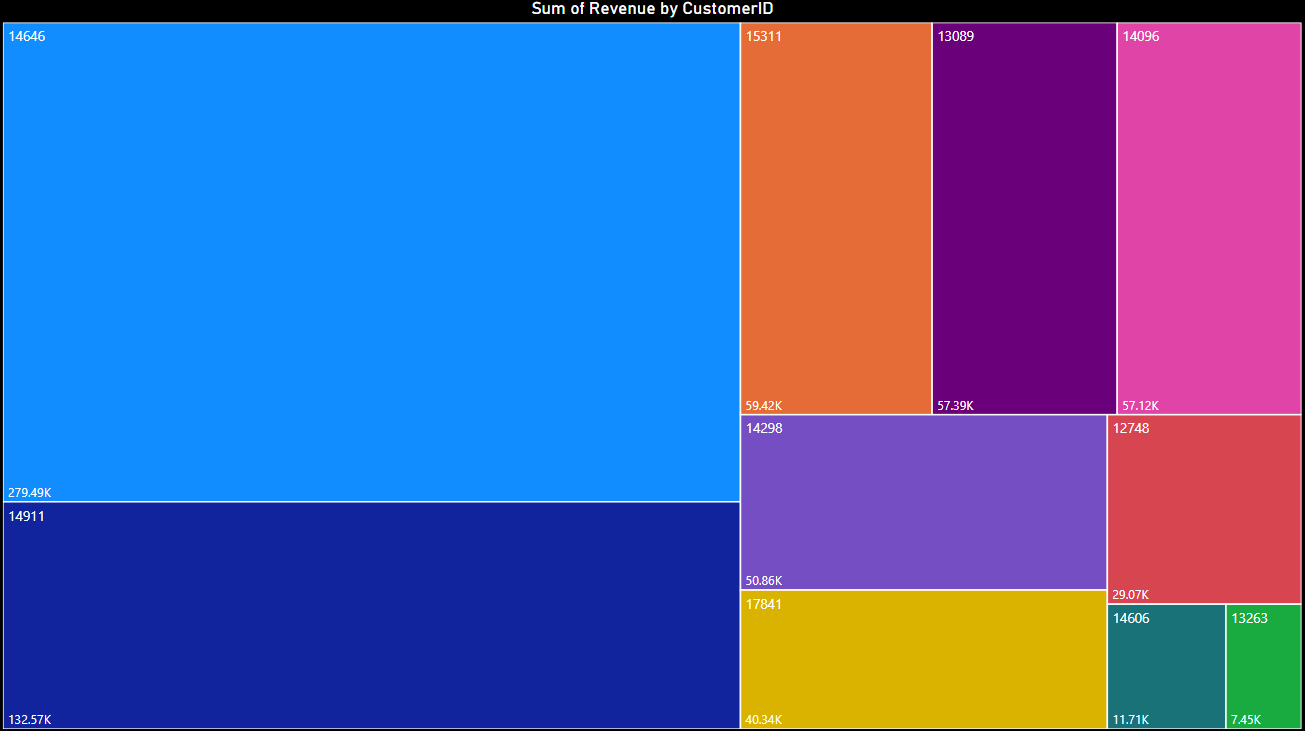

What the dashboard file says about the page in this screenshot:
{"tool":"powerbi","page":{"name":"Question 3","canvas":[1280,720],"ordinal":2},"visuals":[{"type":"treemap","fields":{"Group":["Online Retail.CustomerID"],"Values":["Sum(Online Retail.Revenue)"]},"box":[0,0,1280.3,720.4],"z":0}]}

Visuals, with their boxes in screenshot pixels (x1, y1, x2, y2), scaled from the page's 1280x720 canvas onto the 1305x731 screenshot:
treemap - Online Retail.CustomerID x Sum(Online Retail.Revenue): 0, 0, 1304, 730
